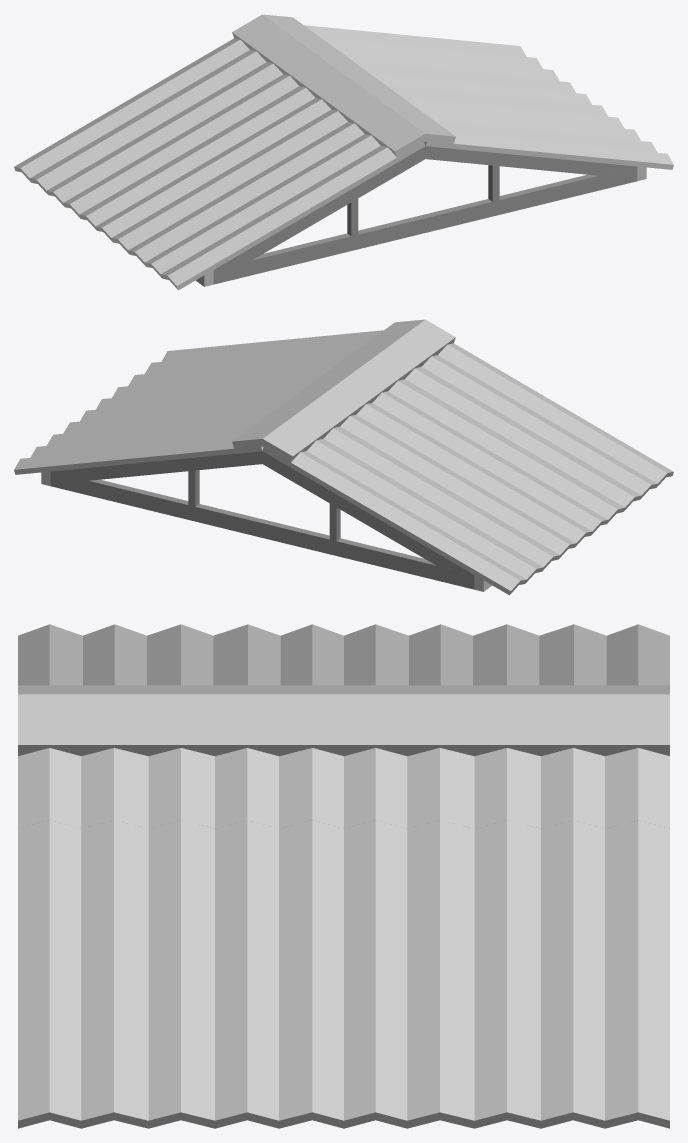
The model's file is Wh_Roof_9m.fbx.
3 renders of one model, top to bottom at view 1: azimuth 30°, elevation 25°; view 2: azimuth 150°, elevation 25°; view 3: azimuth 270°, elevation 25°, orthographic. The views are drawn at different scales.
Parts seen in each view (by area): view 1: Cube.768; view 2: Cube.768; view 3: Cube.768.
Boxes of the visible parts, <box> form: Cube.768: <box>14,14,673,290</box>; Cube.768: <box>14,319,673,595</box>; Cube.768: <box>18,624,669,1128</box>.
Size of the model in its own units: 1063 by 202 by 600.
